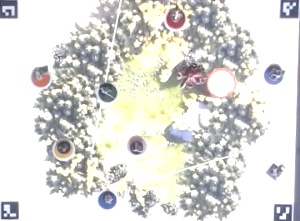blue: (95, 187, 118, 210)
green: (95, 79, 118, 104)
orange: (28, 65, 52, 89)
pink: (124, 132, 151, 157)
red: (162, 6, 188, 31)
violet: (262, 61, 287, 86)
yellow: (49, 135, 77, 162)
